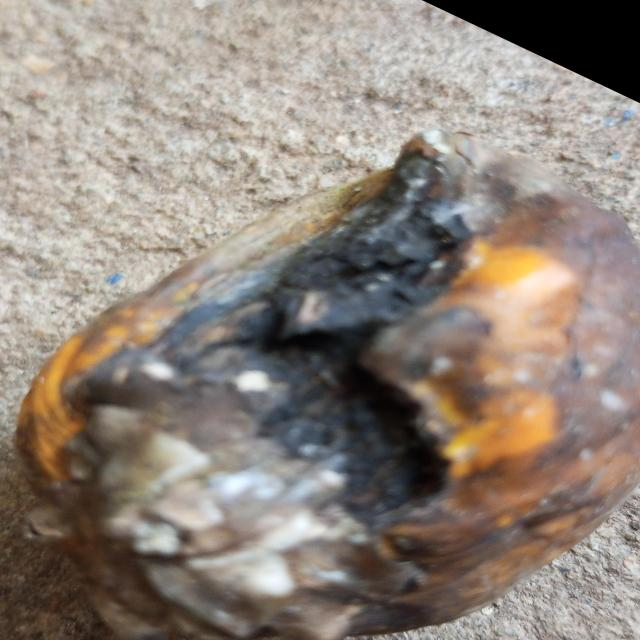damaged: (13, 131, 640, 640)
